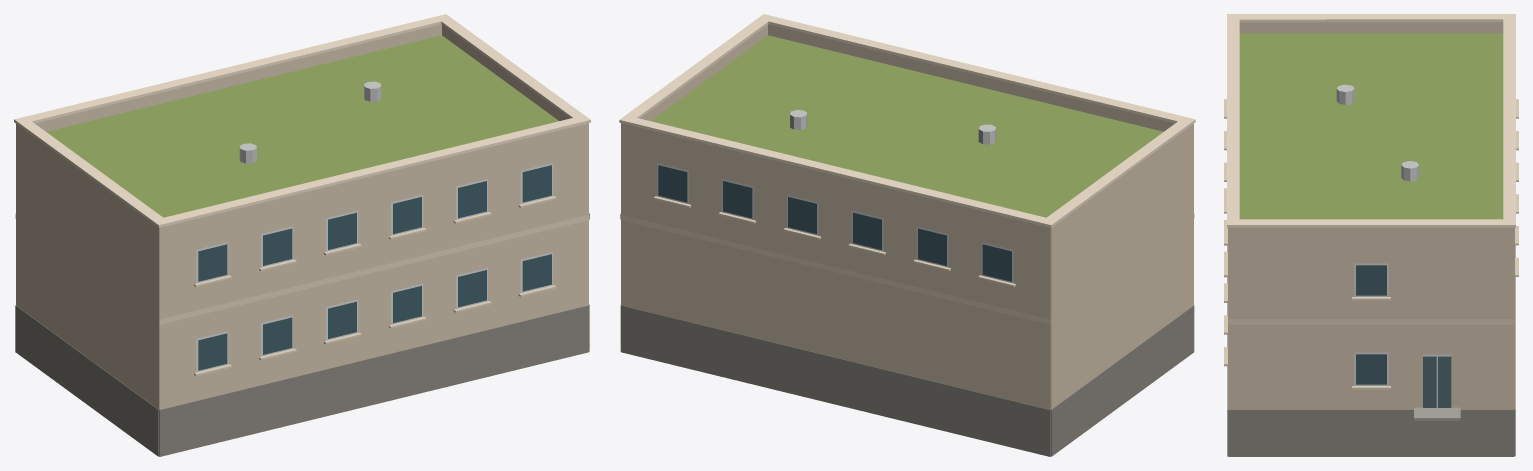
The picture shows the model from 3 angles, left to right: view 1: azimuth 30°, elevation 25°; view 2: azimuth 150°, elevation 25°; view 3: azimuth 270°, elevation 25°; orthographic projection.
Visible parts, largest first — view 1: w451562724__plaster-wall, w451562724__roof, w451562724__foundation-wall, w451562724__coping-stone, w451562724__glass, w451562724__band-wall, w451562724__frame, w451562724__ac; view 2: w451562724__plaster-wall, w451562724__roof, w451562724__foundation-wall, w451562724__coping-stone, w451562724__glass, w451562724__band-wall, w451562724__frame, w451562724__ac; view 3: w451562724__plaster-wall, w451562724__roof, w451562724__foundation-wall, w451562724__coping-stone, w451562724__band-wall, w451562724__glass, w451562724__door-glass, w451562724__frame, w451562724__ac, w451562724__threshold.
Boxes of the visible parts, <box> form: w451562724__plaster-wall: <box>16,24,588,409</box>; w451562724__roof: <box>46,35,558,217</box>; w451562724__foundation-wall: <box>15,304,589,456</box>; w451562724__coping-stone: <box>14,14,590,227</box>; w451562724__glass: <box>198,165,551,370</box>; w451562724__band-wall: <box>15,196,589,376</box>; w451562724__frame: <box>196,163,552,372</box>; w451562724__ac: <box>239,81,381,163</box>; w451562724__plaster-wall: <box>621,24,1193,409</box>; w451562724__roof: <box>651,35,1163,217</box>; w451562724__foundation-wall: <box>620,305,1194,456</box>; w451562724__coping-stone: <box>619,14,1195,227</box>; w451562724__glass: <box>658,165,1011,281</box>; w451562724__band-wall: <box>620,196,1194,324</box>; w451562724__frame: <box>657,163,1013,283</box>; w451562724__ac: <box>790,110,996,144</box>; w451562724__plaster-wall: <box>1228,22,1514,409</box>; w451562724__roof: <box>1239,33,1503,219</box>; w451562724__foundation-wall: <box>1227,245,1515,456</box>; w451562724__coping-stone: <box>1227,14,1515,227</box>; w451562724__band-wall: <box>1224,99,1518,389</box>; w451562724__glass: <box>1356,265,1386,384</box>; w451562724__door-glass: <box>1423,356,1451,407</box>; w451562724__frame: <box>1354,263,1451,408</box>; w451562724__ac: <box>1336,84,1419,181</box>; w451562724__threshold: <box>1414,407,1460,420</box>.
Bounding box in the file's own units: 20.21 × 9.92 × 11.41.
